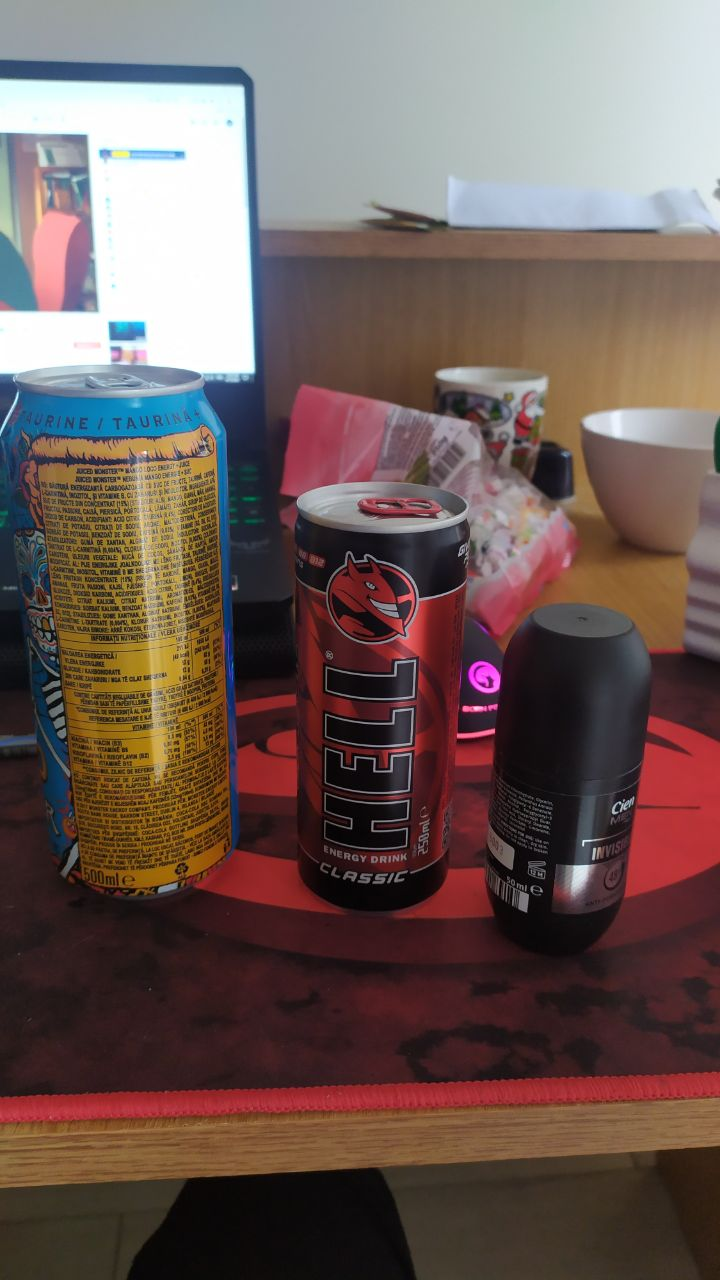Can: (4, 368, 239, 899), (292, 485, 453, 911)
